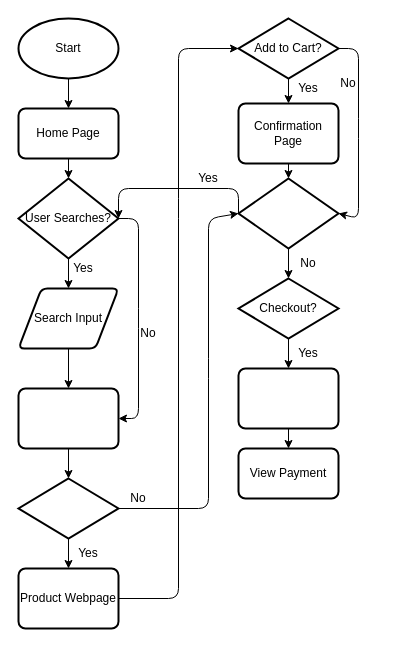
This 395x646 diagram has some shape labels left out. Each missing label, with the box of its shape:
Continue Shopping?: (237, 177, 339, 249)
Product List Page: (17, 387, 119, 449)
View Cart: (237, 367, 339, 429)
View Product?: (17, 477, 119, 539)
